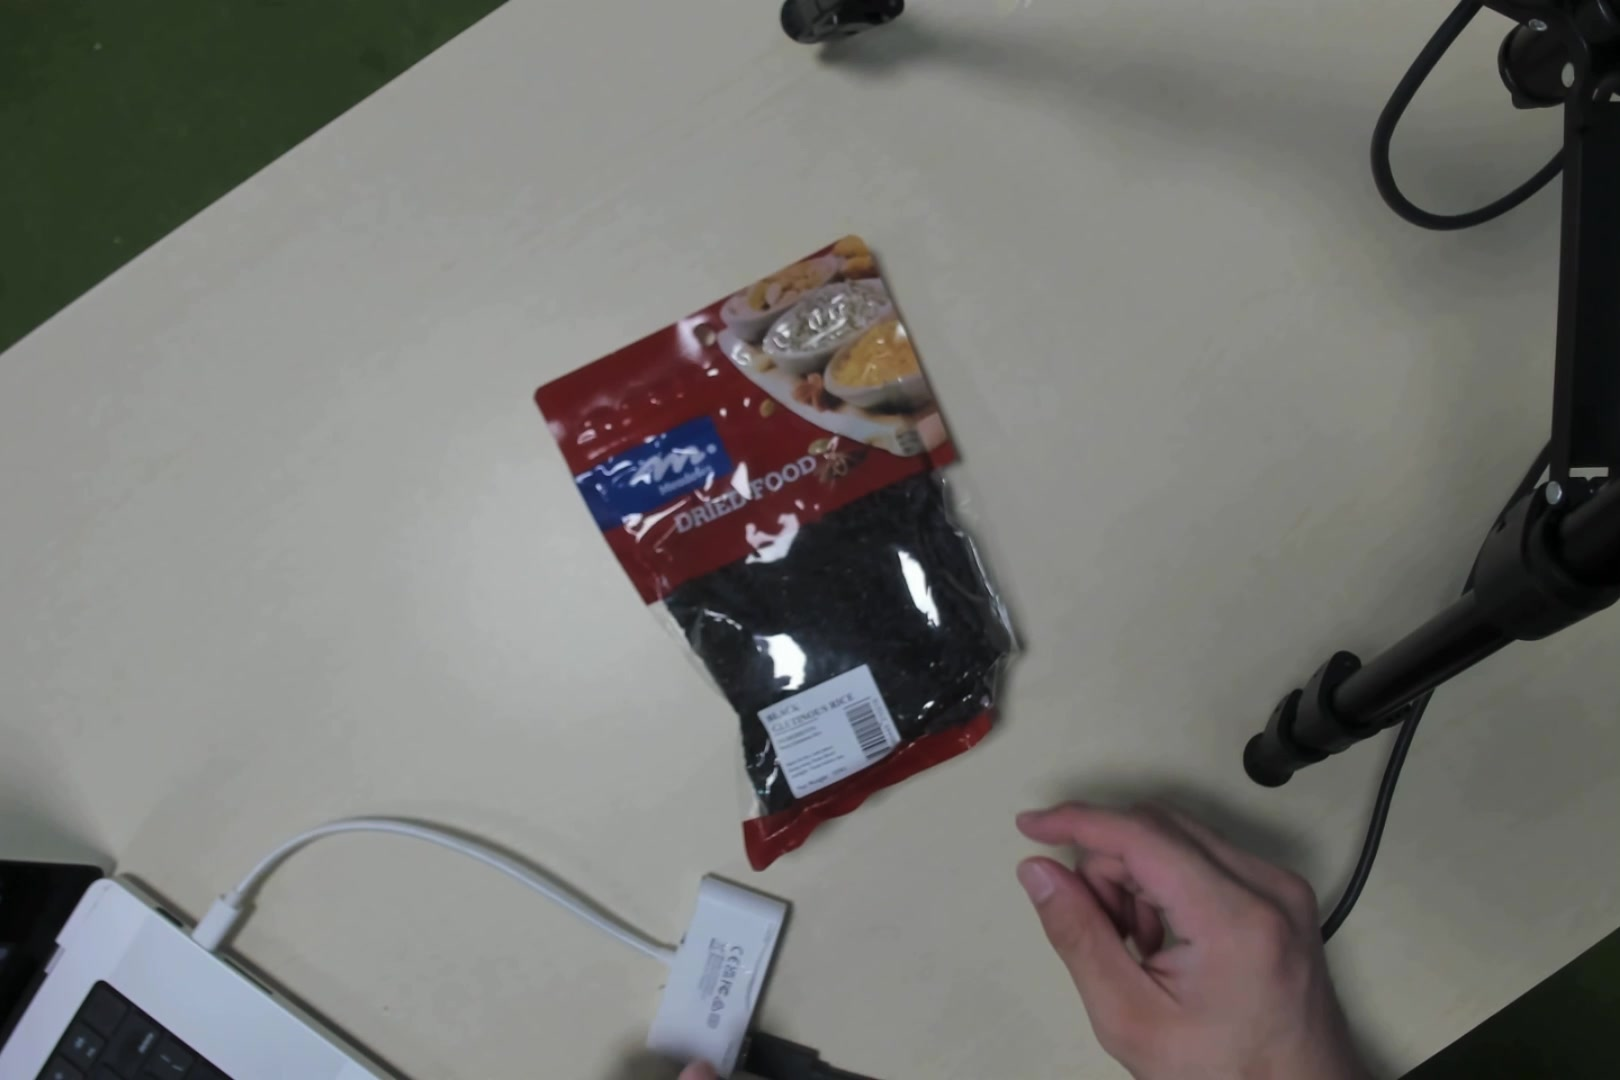OtherDriedFood_100-199g_NonHalal_NonHealthy: (626, 297, 1027, 829)
